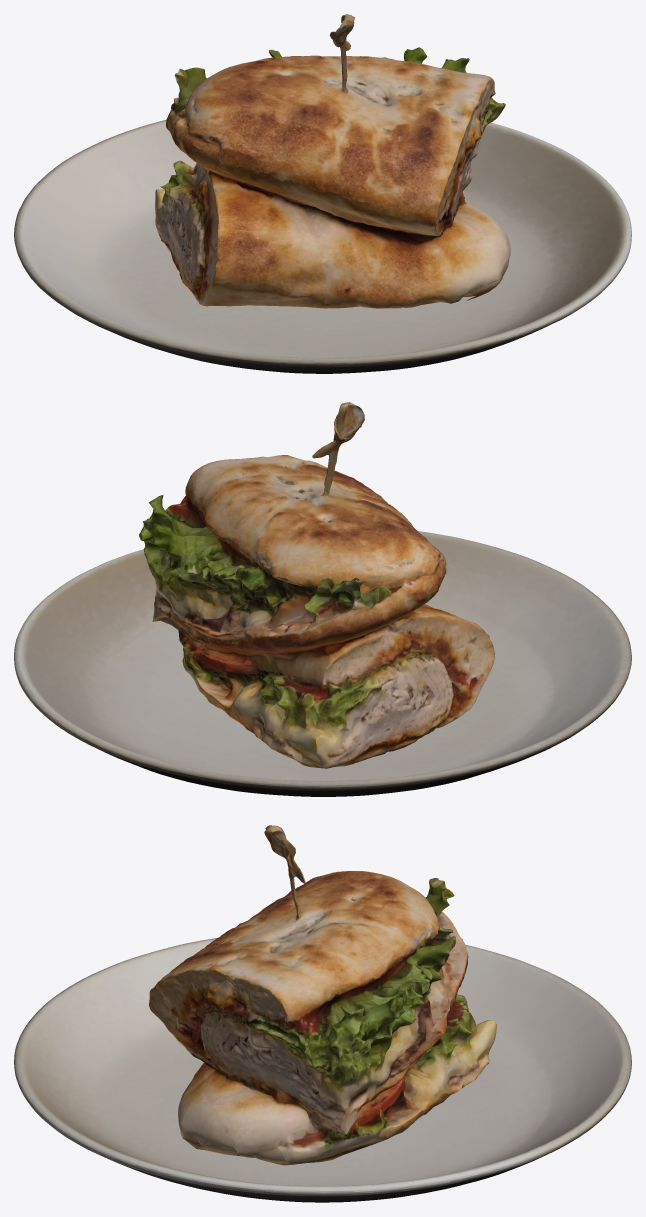
File: With.turkey.and.sun.dried.tomato.pesto.001.glb
The picture shows the model from 3 angles, top to bottom: view 1: azimuth 30°, elevation 25°; view 2: azimuth 150°, elevation 25°; view 3: azimuth 270°, elevation 25°; orthographic projection.
Parts seen in each view (by area): view 1: /Root/Scenes/Scene/Object_58/Object_59/Submesh_0, /Root/Scenes/Scene/Object_58/Object_62/Object_63/Submesh_0; view 2: /Root/Scenes/Scene/Object_58/Object_59/Submesh_0, /Root/Scenes/Scene/Object_58/Object_62/Object_63/Submesh_0; view 3: /Root/Scenes/Scene/Object_58/Object_59/Submesh_0, /Root/Scenes/Scene/Object_58/Object_62/Object_63/Submesh_0.
Boxes of the visible parts, left/top/right/bottom form: /Root/Scenes/Scene/Object_58/Object_59/Submesh_0: left=155, top=14, right=510, bottom=308; /Root/Scenes/Scene/Object_58/Object_62/Object_63/Submesh_0: left=14, top=120, right=631, bottom=373; /Root/Scenes/Scene/Object_58/Object_59/Submesh_0: left=139, top=402, right=495, bottom=768; /Root/Scenes/Scene/Object_58/Object_62/Object_63/Submesh_0: left=14, top=531, right=631, bottom=796; /Root/Scenes/Scene/Object_58/Object_59/Submesh_0: left=149, top=825, right=496, bottom=1165; /Root/Scenes/Scene/Object_58/Object_62/Object_63/Submesh_0: left=14, top=938, right=631, bottom=1202.
Bounding box in the file's own units: 0.2901 × 0.1473 × 0.2901.
2 materials, 2 textured.
